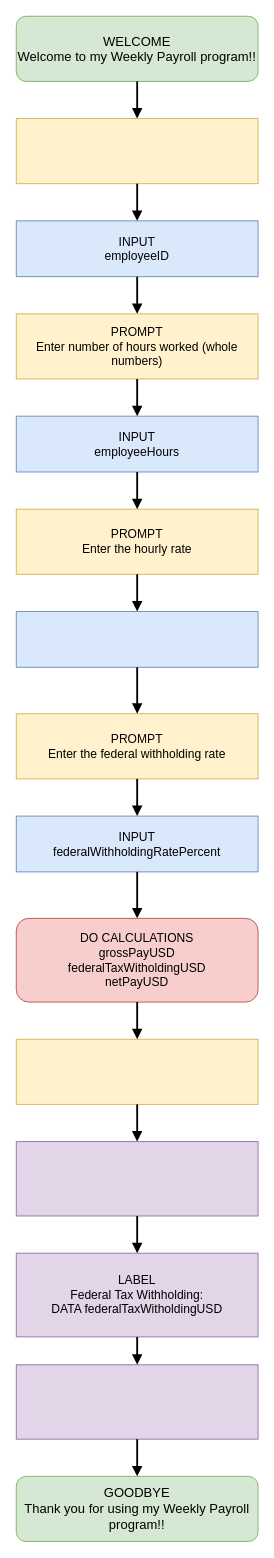
Image size: 274x1558. Some labels were removed from this diagram. Each missing label, with the box of its shape:
HEADING Your Payroll Summary:: (15, 1038, 258, 1104)
INPUT USDPerHour: (15, 611, 258, 667)
LABEL Gross Pay: DATA grossPayUSD: (15, 1141, 258, 1216)
LABEL Net Pay: DATA netPayUSD: (15, 1364, 258, 1439)
PROMPT Enter your employee ID number (numbers only): (15, 118, 258, 184)
